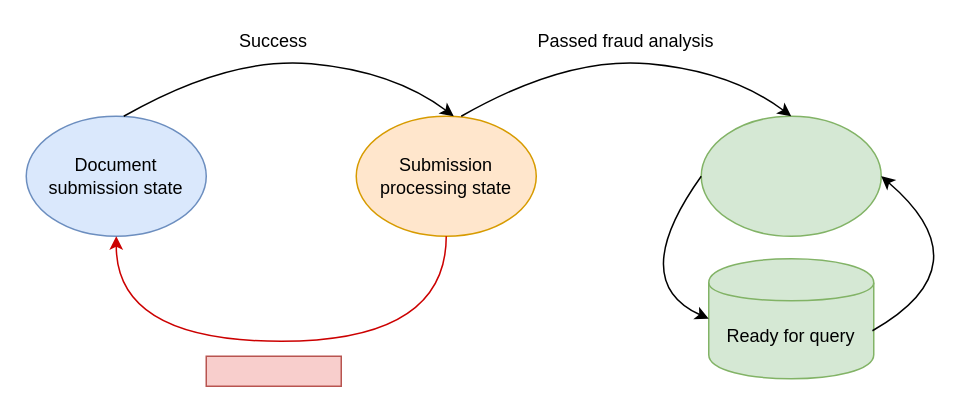
Some shapes in this 960 by 413 pixel diagram are drawn without their labels. The shapes that lost their labels are listed below. From the top down, each one's centre as x and y in pixels, then its label:
pixel 790 175: KYC Success state
pixel 273 370: Failed to pass
